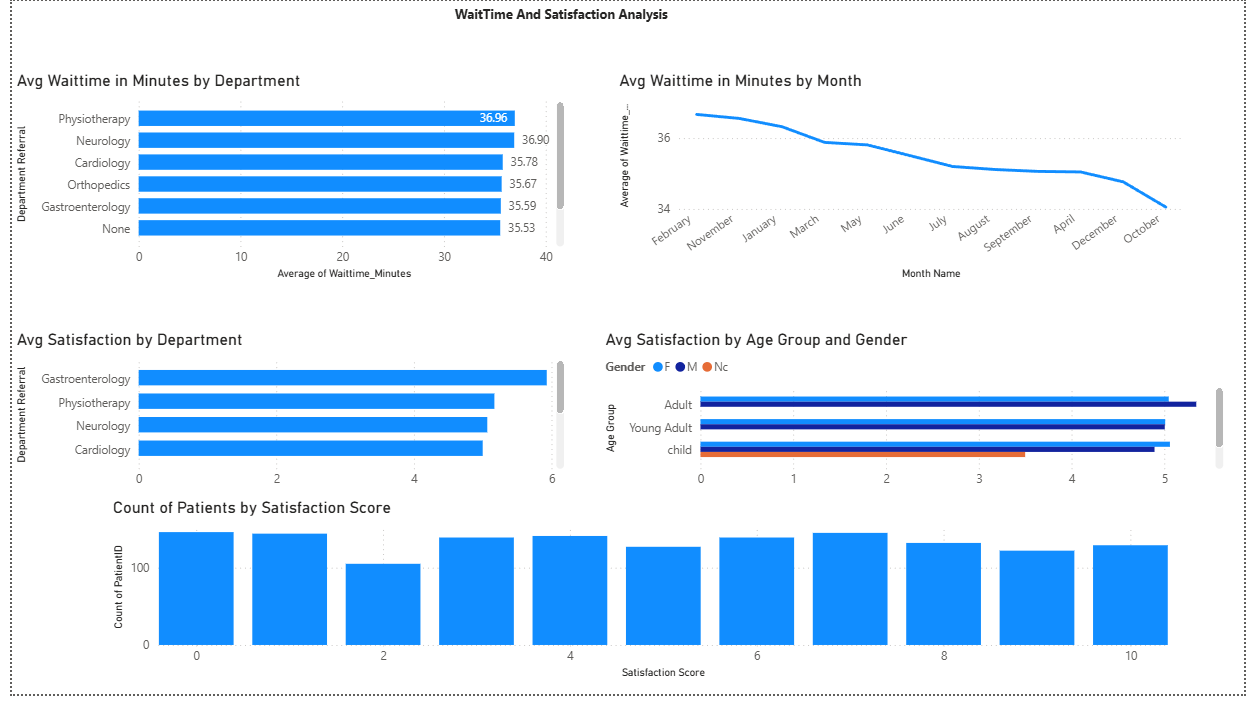

Layout of this report page (visuals, bound fields, positions):
{"tool":"powerbi","page":{"name":"WaitTime and Satisfaction Analysis","canvas":[1280,720],"ordinal":1},"visuals":[{"type":"barChart","title":"Avg Waittime in Minutes by Department ","fields":{"Category":["Hospital ER_Data.Department Referral"],"Y":["Avg(Hospital ER_Data.Waittime_Minutes)"]},"box":[0,73.2,578.7,221.3],"z":0},{"type":"lineChart","title":"Avg Waittime in Minutes by Month","fields":{"Category":["Hospital ER_Data.Month Name"],"Y":["Avg(Hospital ER_Data.Waittime_Minutes)"]},"box":[626.4,73.2,595.7,221.3],"z":1000},{"type":"barChart","title":"Avg Satisfaction by Department","fields":{"Category":["Hospital ER_Data.Department Referral"],"Y":["Hospital ER_Data.Avg Satisfaction"]},"box":[0,342.1,578.7,173.6],"z":2000},{"type":"columnChart","title":"Count of Patients by Satisfaction Score","fields":{"Category":["Hospital ER_Data.Satisfaction Score"],"Y":["CountNonNull(Hospital ER_Data.PatientID)"]},"box":[100.2,516,1106,193.5],"z":3000},{"type":"clusteredBarChart","fields":{"Category":["Hospital ER_Data.Age Group"],"Y":["Hospital ER_Data.Avg Satisfaction"],"Series":["Hospital ER_Data.Gender"]},"box":[611.1,342.1,651.9,173.6],"z":4000},{"type":"textbox","box":[204.3,0,733.6,54.5],"z":7000}]}

Visuals, with their boxes in screenshot pixels (x1, y1, x2, y2), scaled from the page's 1280x720 canvas onto the 1253x714 screenshot:
"Avg Waittime in Minutes by Department " barChart: <region>0, 73, 566, 292</region>
"Avg Waittime in Minutes by Month" lineChart: <region>613, 73, 1196, 292</region>
"Avg Satisfaction by Department" barChart: <region>0, 339, 566, 511</region>
"Count of Patients by Satisfaction Score" columnChart: <region>98, 512, 1181, 704</region>
clusteredBarChart - Hospital ER_Data.Age Group x Hospital ER_Data.Avg Satisfaction: <region>598, 339, 1236, 511</region>
textbox: <region>200, 0, 918, 54</region>
